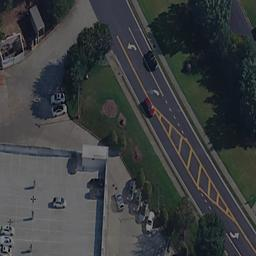Car: (135, 99, 158, 117), (141, 53, 162, 71)
Chevron: (156, 117, 236, 221)
Double Solid Yellow Line: (114, 31, 147, 99), (235, 226, 254, 252)
Left Turn Arrow: (145, 85, 161, 97), (226, 229, 240, 241), (124, 40, 138, 51)
White Dashed Line: (161, 99, 183, 132), (198, 193, 217, 219)
